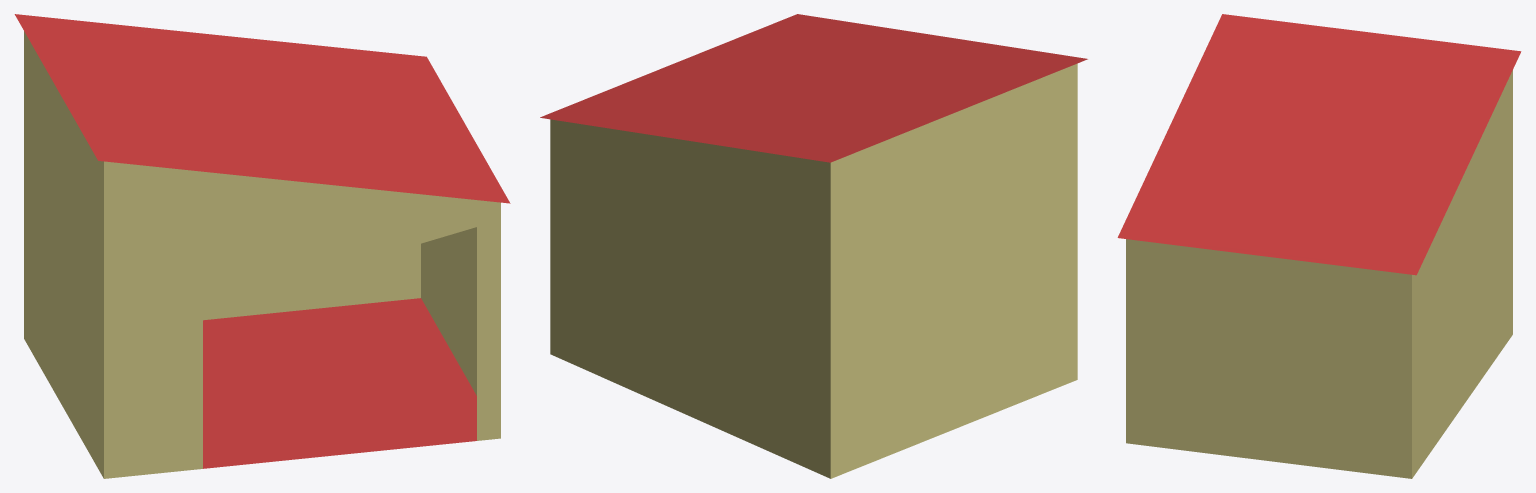
3 views of the same model, side by side, from view 1: azimuth 30°, elevation 25°; view 2: azimuth 150°, elevation 25°; view 3: azimuth 270°, elevation 25° (orthographic). The views are drawn at different scales.
Size of the model in its own units: 16.24 by 14.8 by 11.36.
